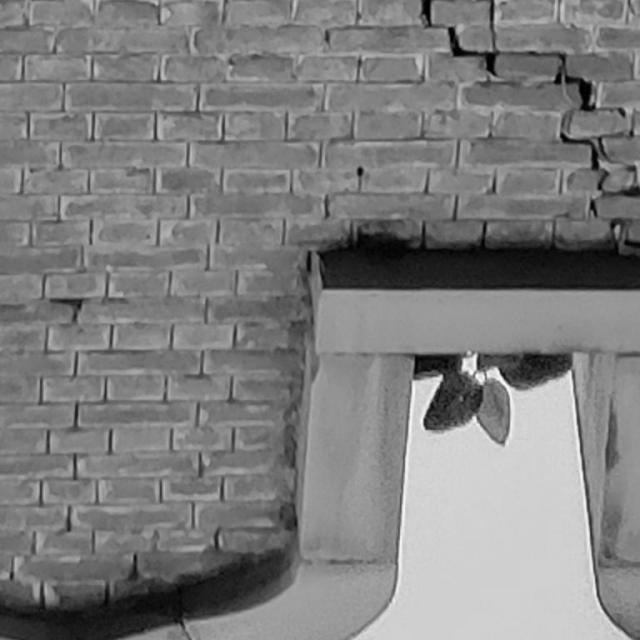crack: (419, 1, 640, 252)
